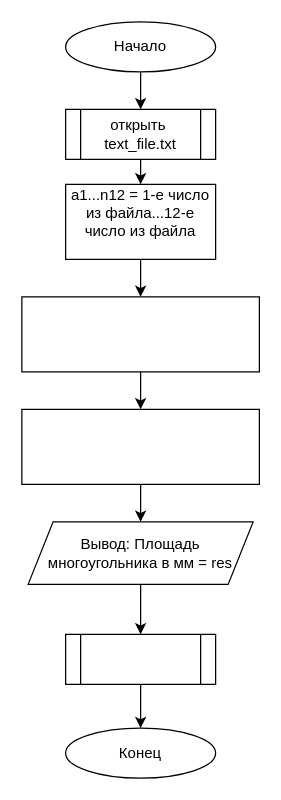
Image size: 281x800. Some labels were removed from this diagram. The shapes that lost their labels are listed below. From the top down, each one's centre as x and y in pixels, then its label:
(140,334): рассчёт S треуг. area_of_a_triangle
(140,446): res = S всех треуг.
(140,658): закрыть text_file.txt
